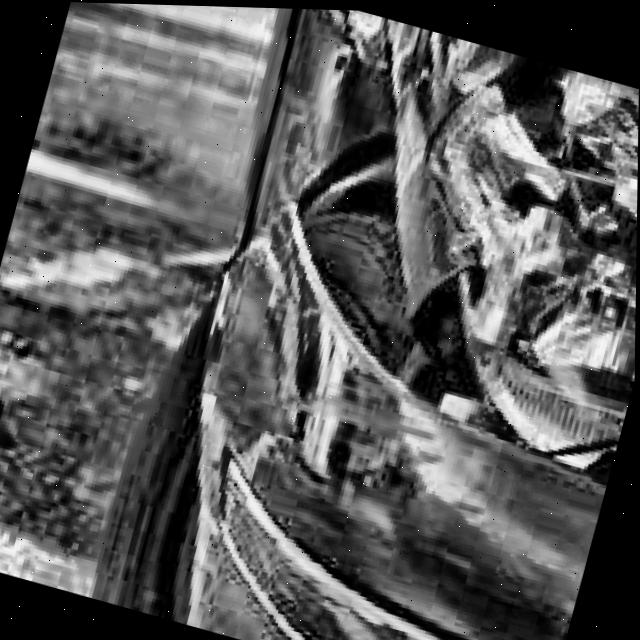head_lamp: (371, 38, 640, 476)
